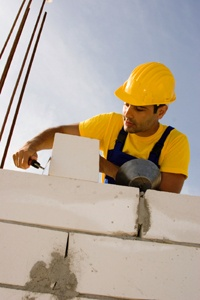yellow: (121, 60, 176, 132)
